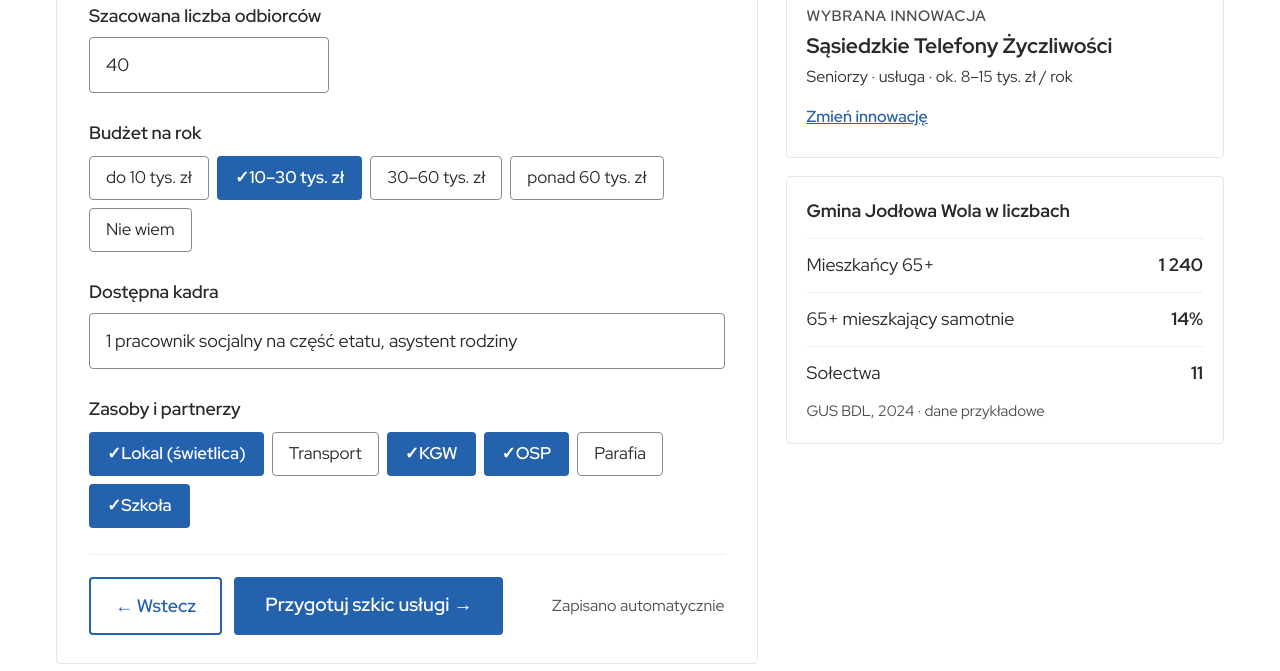
Test: adaptation › edits a draft section in place
This screenshot has width=1280, height=671.
(page scrolled)
Click the button "Przygotuj szkic usługi →" at (369, 606), box left=234, top=576, right=503, bottom=634
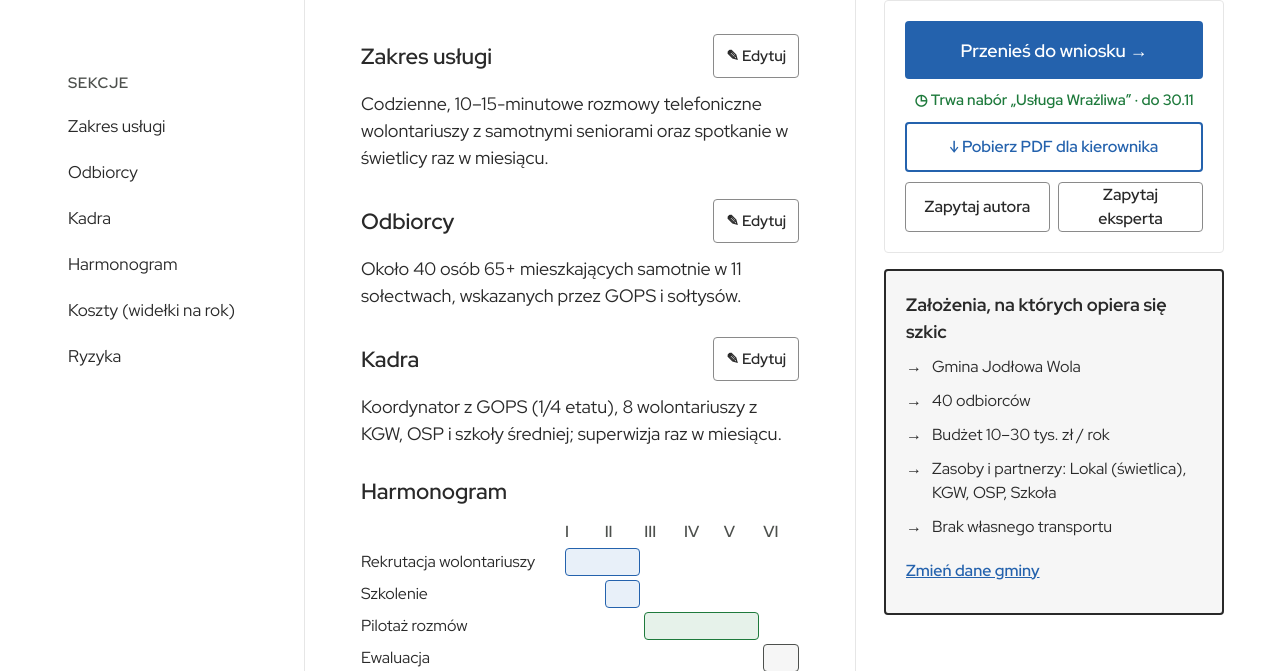
Click the button with aria-label "Edytuj: Odbiorcy" at (756, 221), box left=713, top=199, right=799, bottom=243
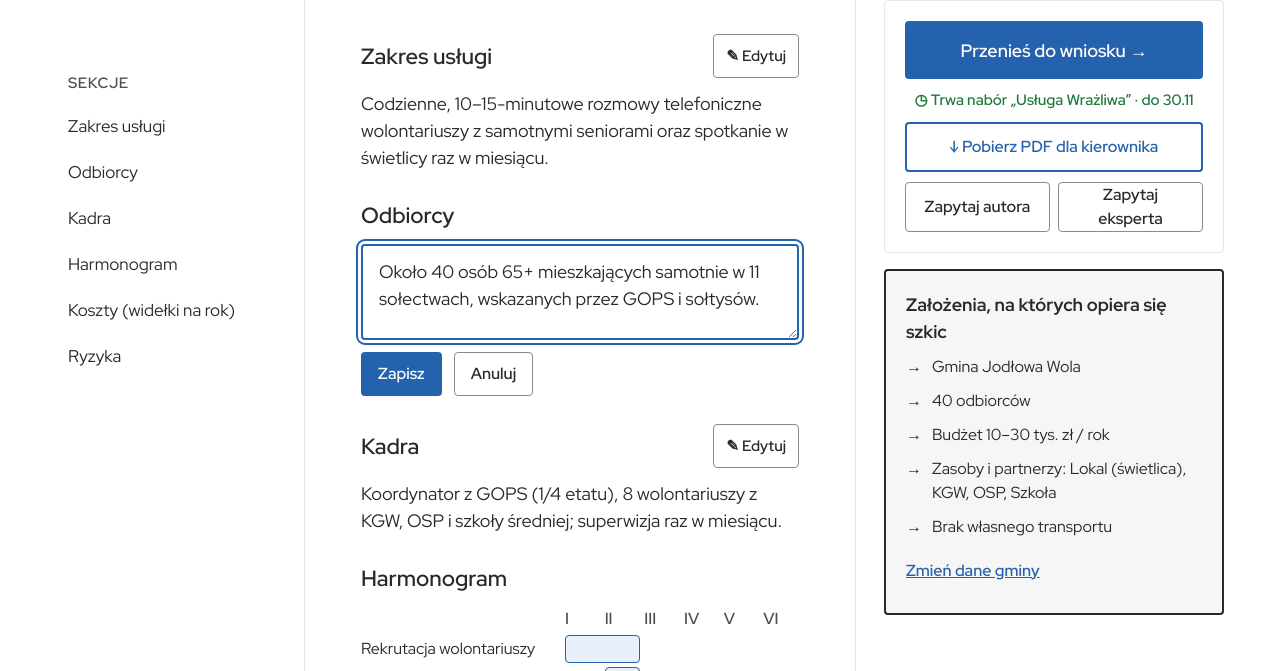
Replace the text in the text box named "Treść: Odbiorcy" with "Około 25 osób." at (580, 292), box left=361, top=244, right=799, bottom=340
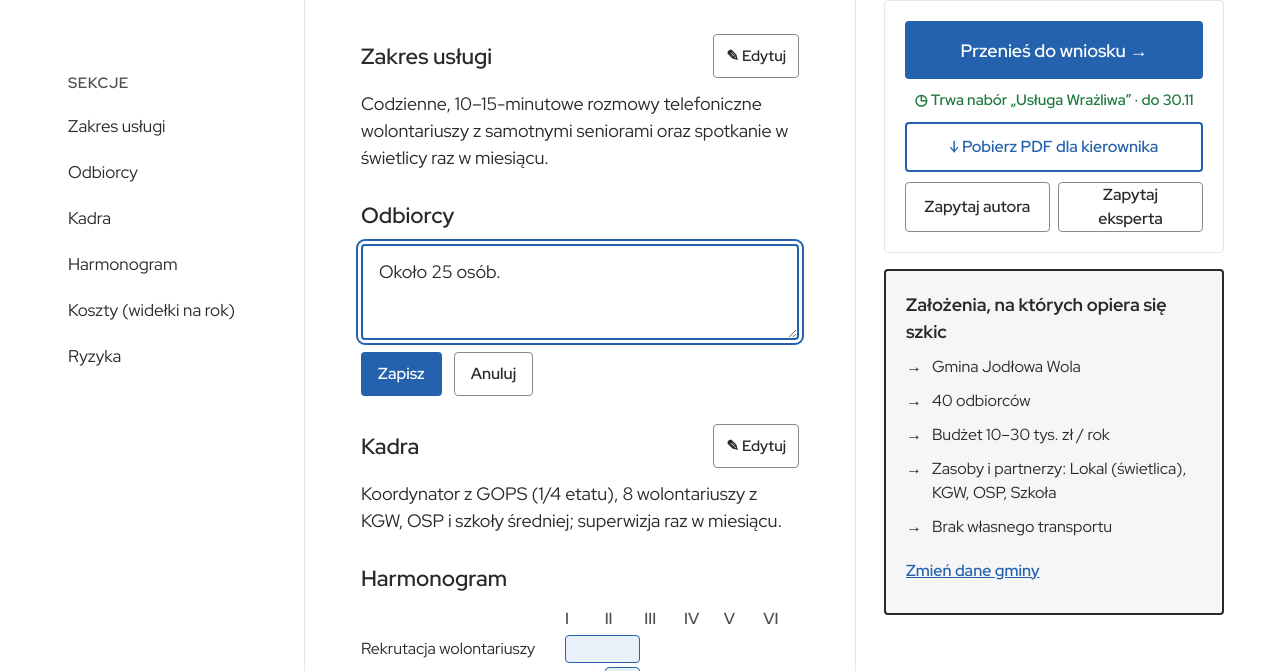
Click the button "Zapisz" at (401, 374), box left=361, top=352, right=442, bottom=396
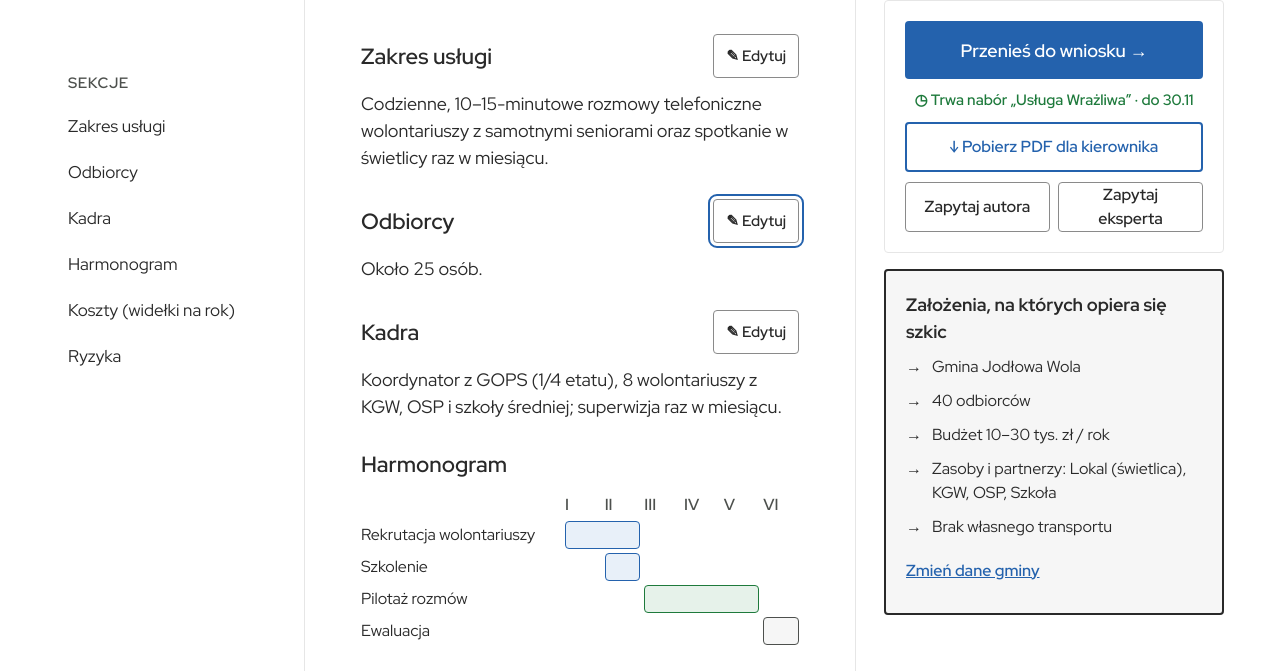
Expected: the text "Około 25 osób." is shown, left=361, top=257, right=483, bottom=280
